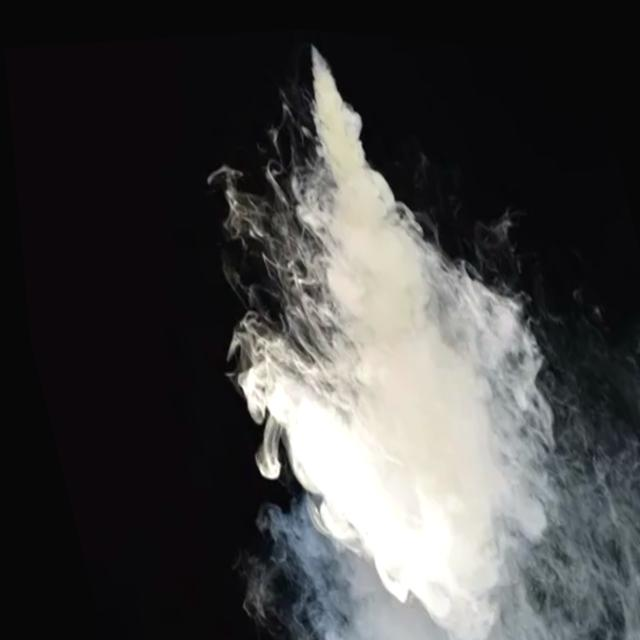no_helmet: (104, 8, 613, 640)
